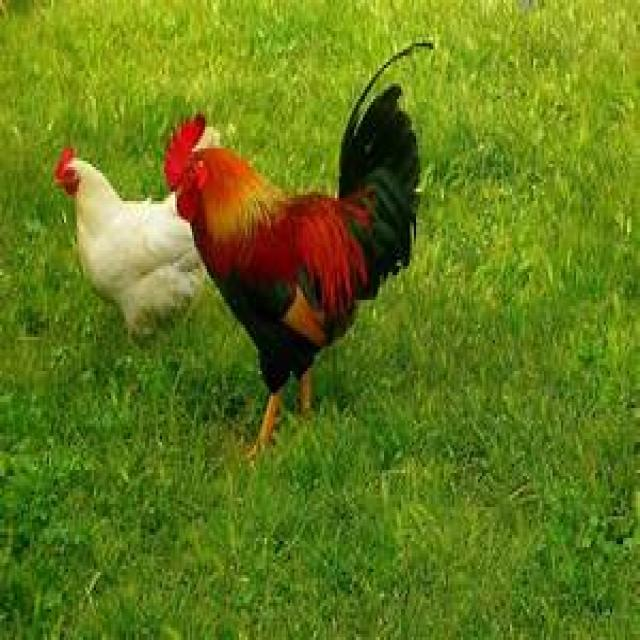hen: (165, 43, 432, 447), (55, 149, 204, 332)
